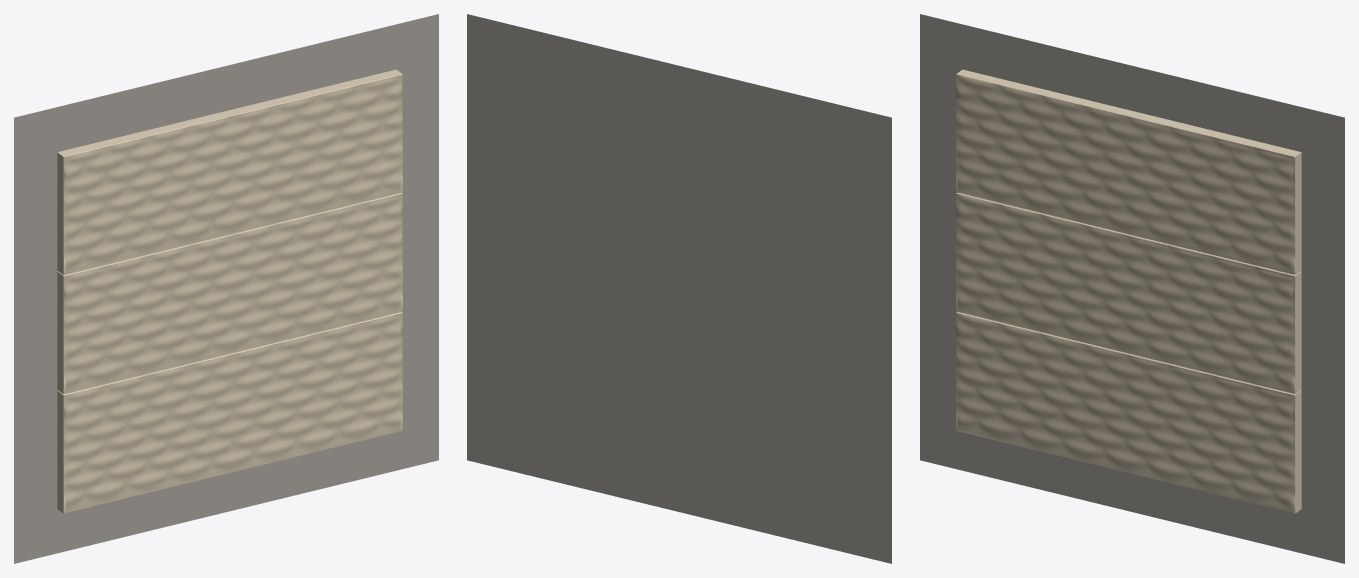
The model's file is terilgan.glb.
3 views of the same model, side by side, from view 1: azimuth 30°, elevation 25°; view 2: azimuth 150°, elevation 25°; view 3: azimuth 330°, elevation 25° (orthographic).
Visible parts, largest first — view 1: Plane, t2_0, t0_0, t1_0; view 2: Plane; view 3: Plane, t2_0, t0_0, t1_0.
Boxes of the visible parts, <box> form: Plane: <box>14,14,438,563</box>; t2_0: <box>57,69,402,274</box>; t0_0: <box>57,312,402,513</box>; t1_0: <box>57,192,402,393</box>; Plane: <box>467,14,891,563</box>; Plane: <box>920,14,1344,563</box>; t2_0: <box>956,69,1301,274</box>; t0_0: <box>956,312,1301,513</box>; t1_0: <box>956,192,1301,393</box>.
Bounding box in the file's own units: 1.5 × 1.51 × 0.0452.
